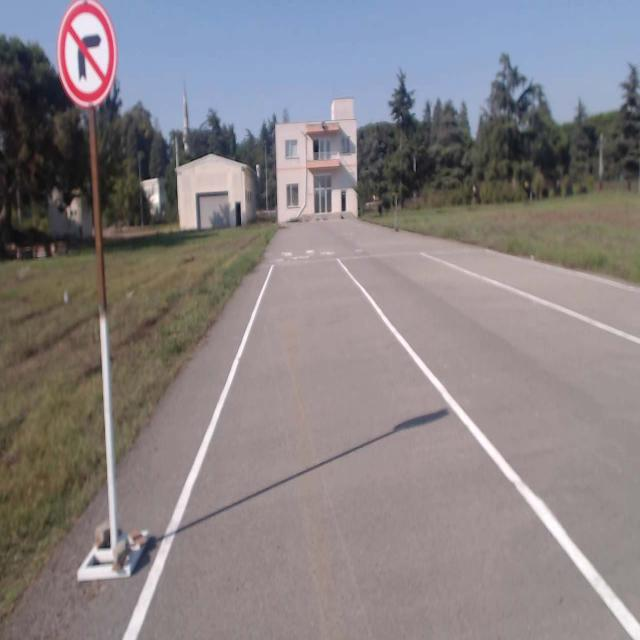sagadonulmez: (57, 1, 117, 107)
